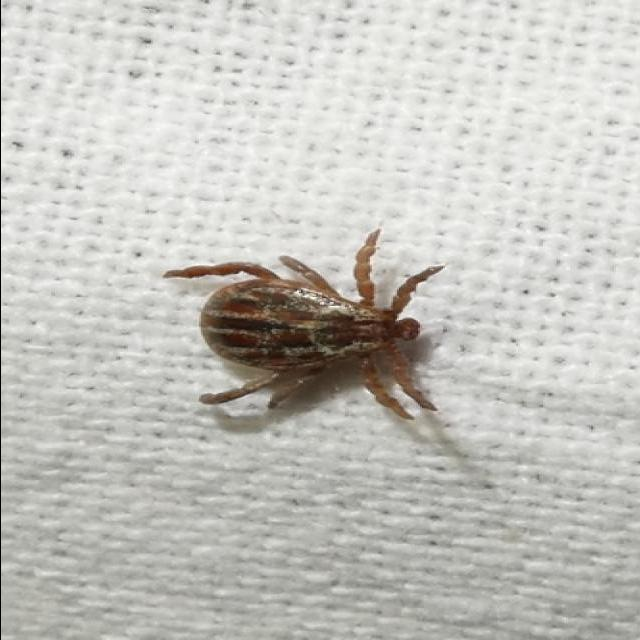Dermacentor Reticulatus-M: (163, 229, 442, 420)
